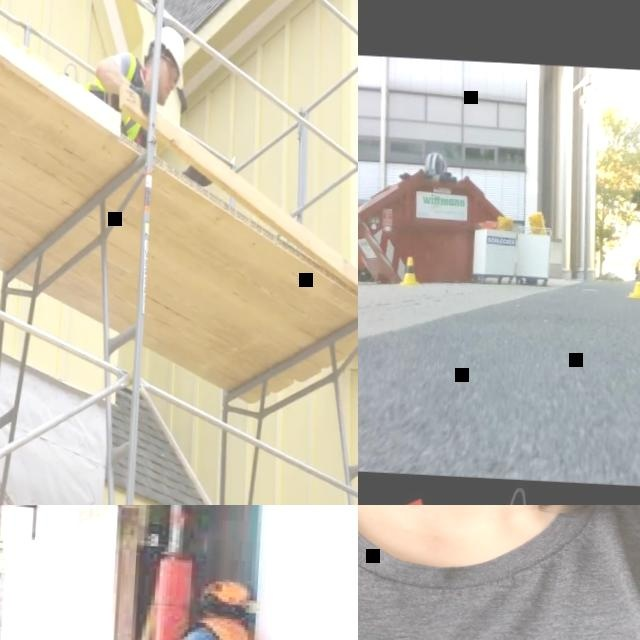Hardhat: (146, 26, 187, 90)
NO-Hardhat: (204, 579, 254, 602)
NO-Mask: (159, 73, 171, 108)
NO-Safety Vest: (358, 505, 640, 640), (171, 615, 261, 640)
Person: (358, 505, 640, 640), (83, 22, 187, 145), (110, 572, 267, 640)
Safety Cone: (401, 258, 421, 286), (627, 260, 640, 298)
Safety Vest: (82, 50, 146, 141)
